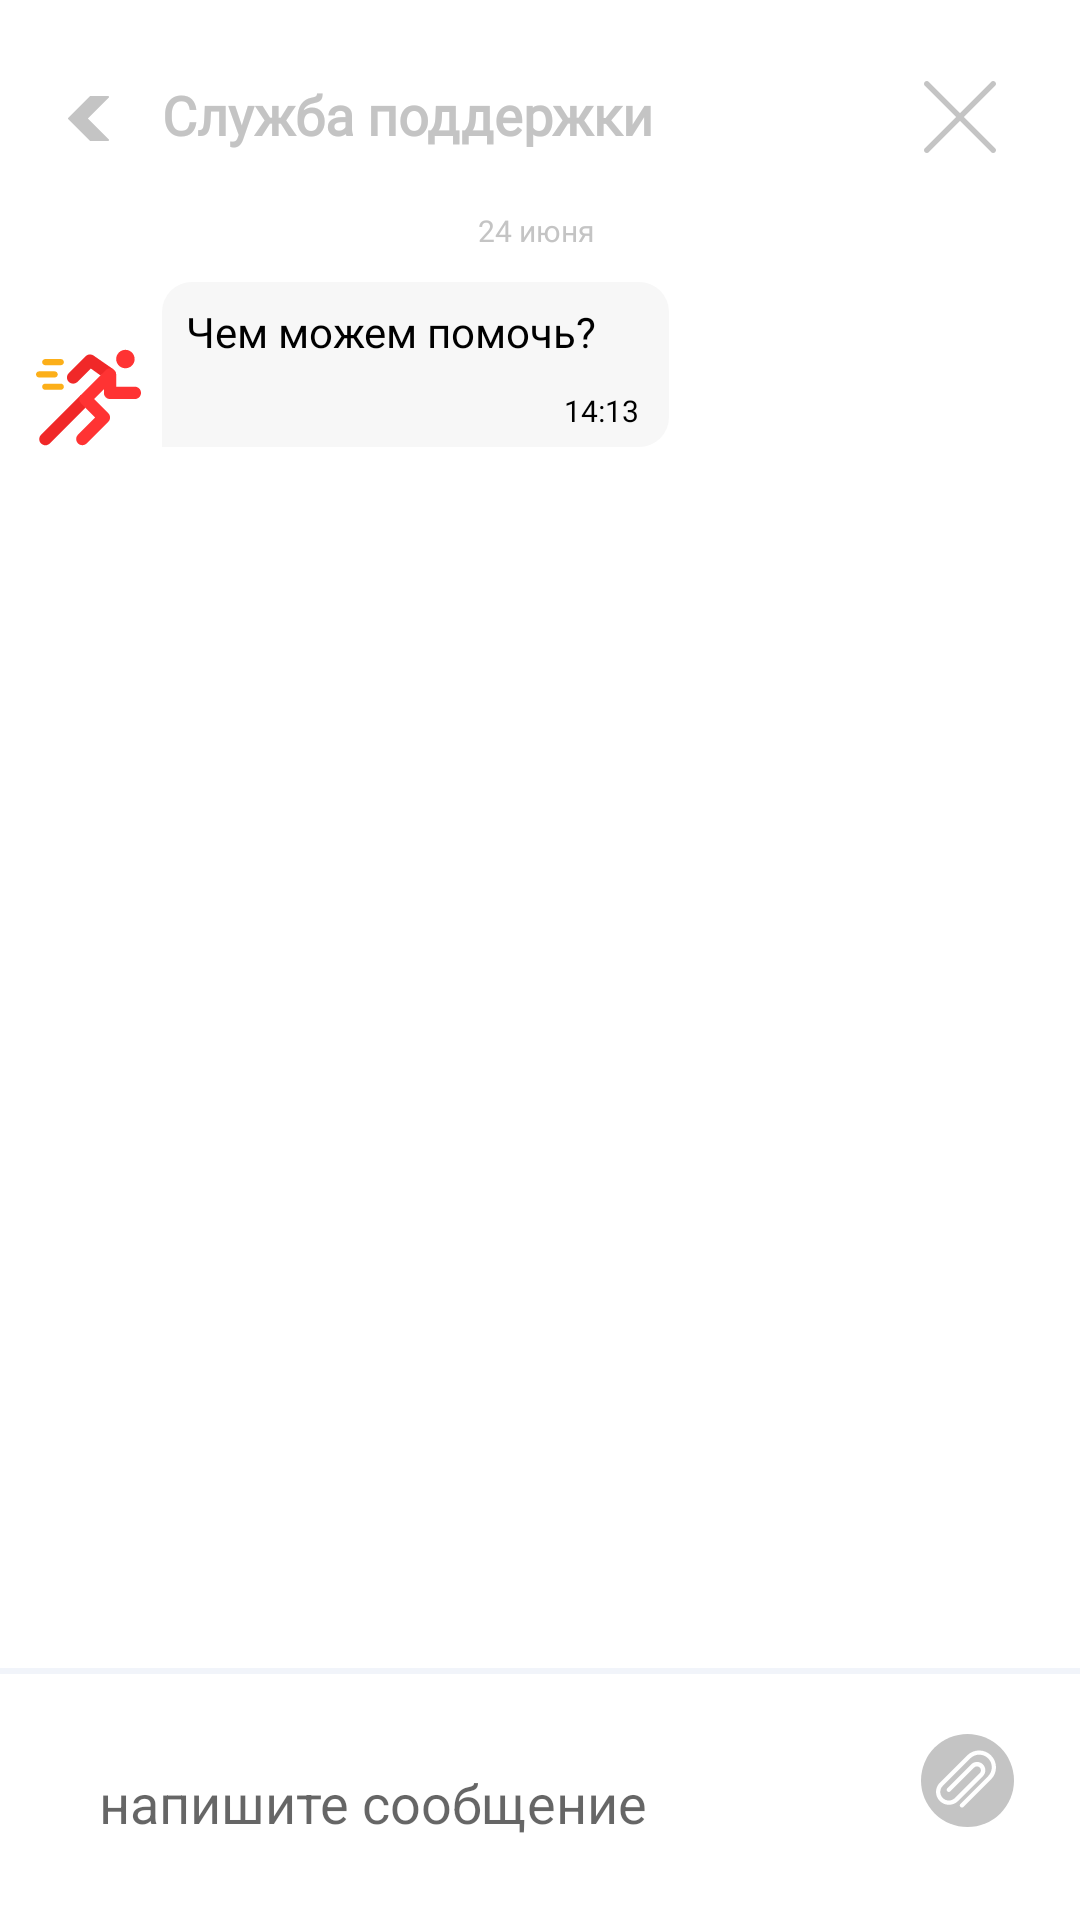

Where to tap for icons on this 1080 x 1920 app screen, as (x,y):
cancel: (960,117)
running: (88,397)
